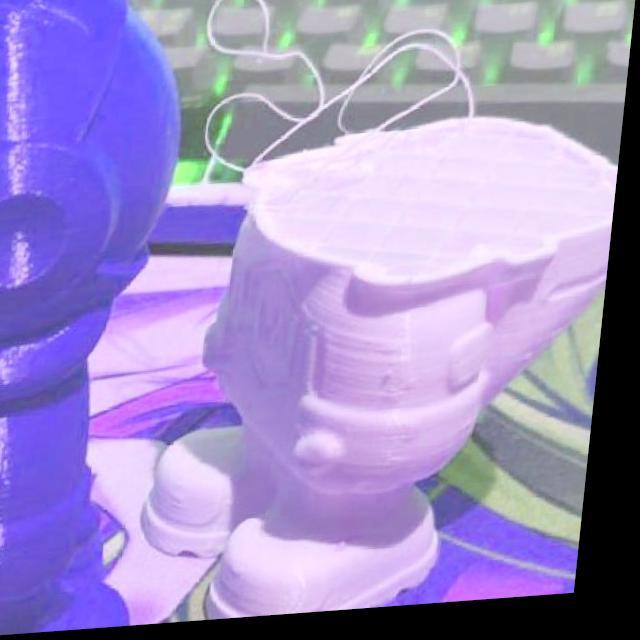spaghetti: (195, 0, 494, 185)
